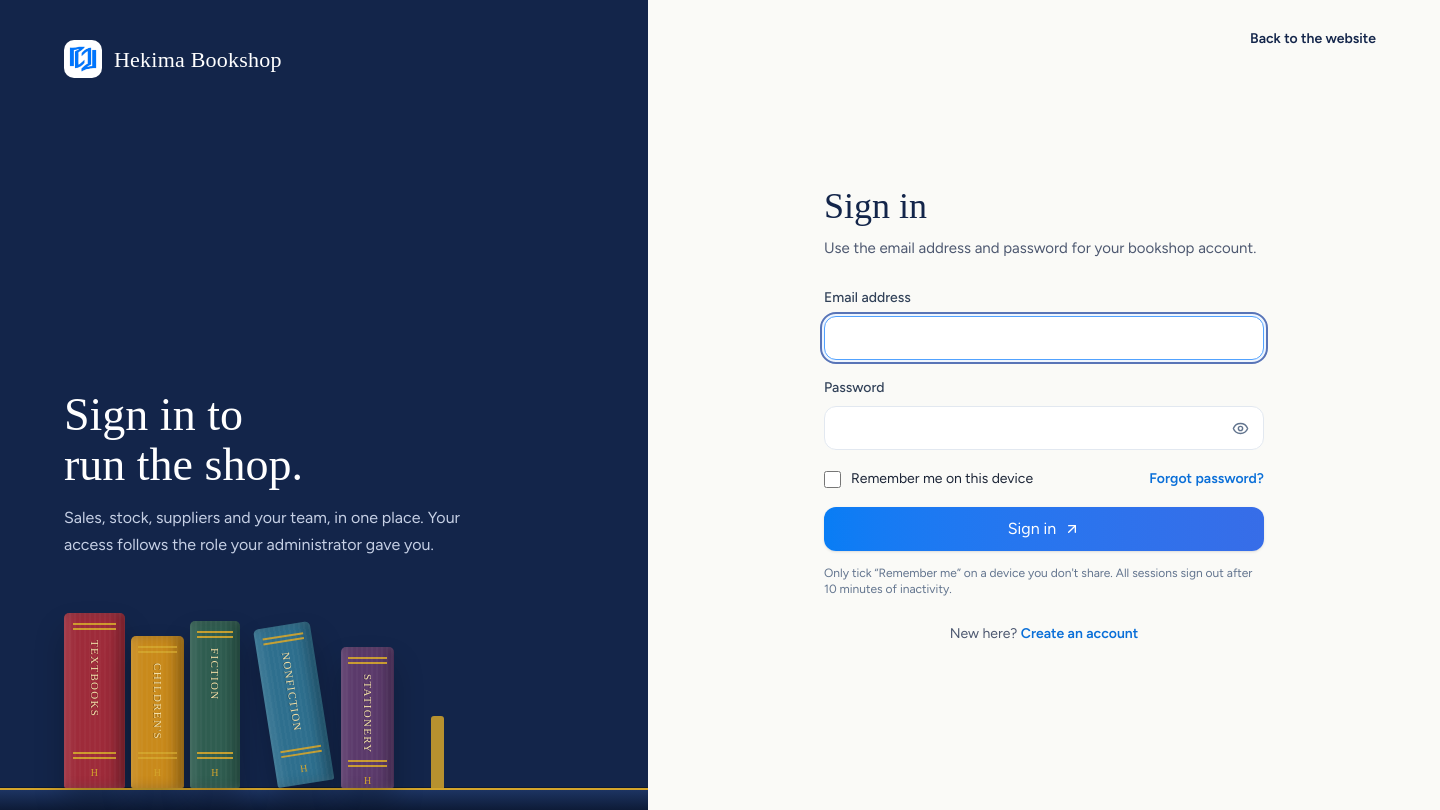
Test case: authentication forms › shows backend login errors and allows another attempt
The image size is (1440, 810).
In the field labelled "Email address": (1044, 338) [824,316,1264,360], type "reader@example.com"
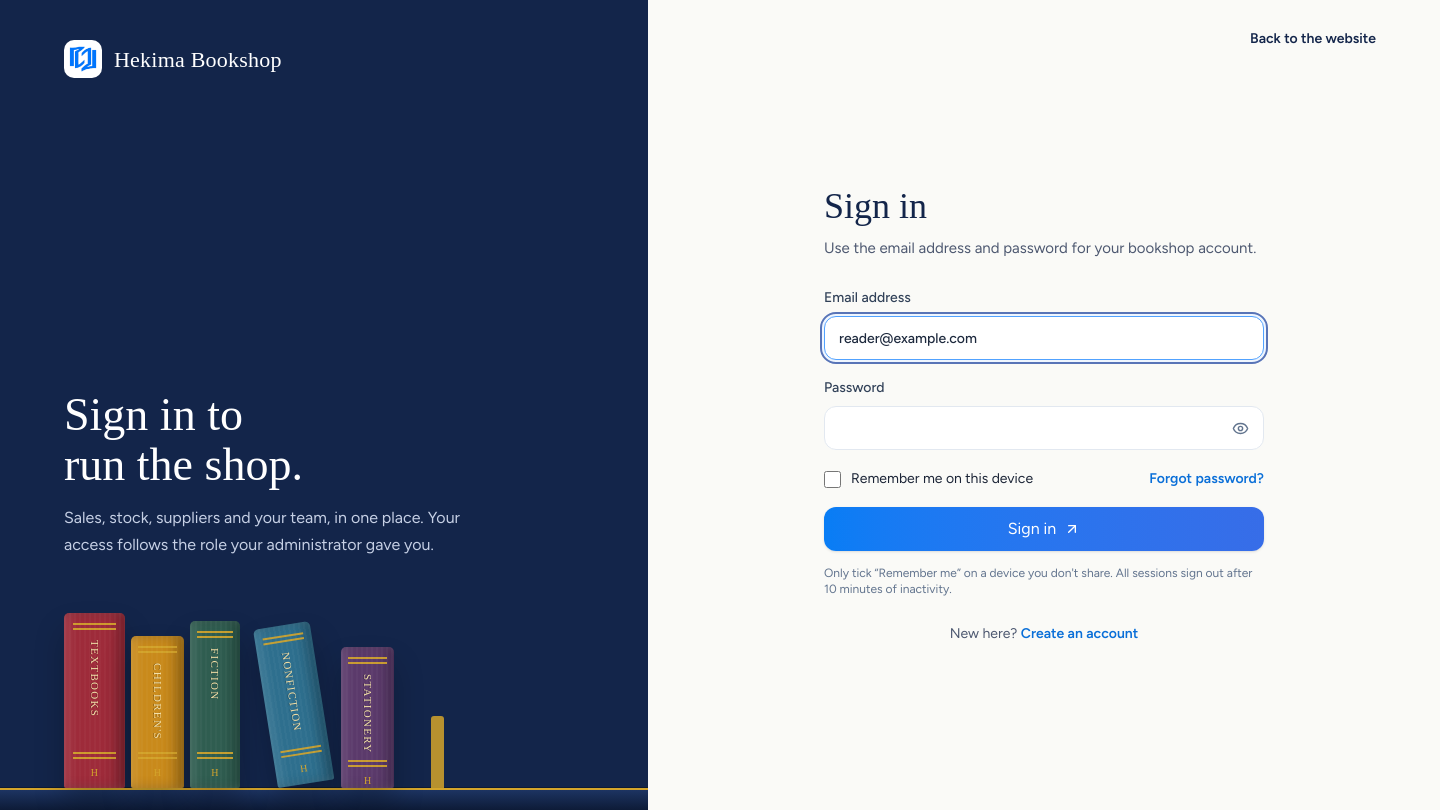
In the password field with id "login-password": (1044, 428) [824,406,1264,450], type "wrong"
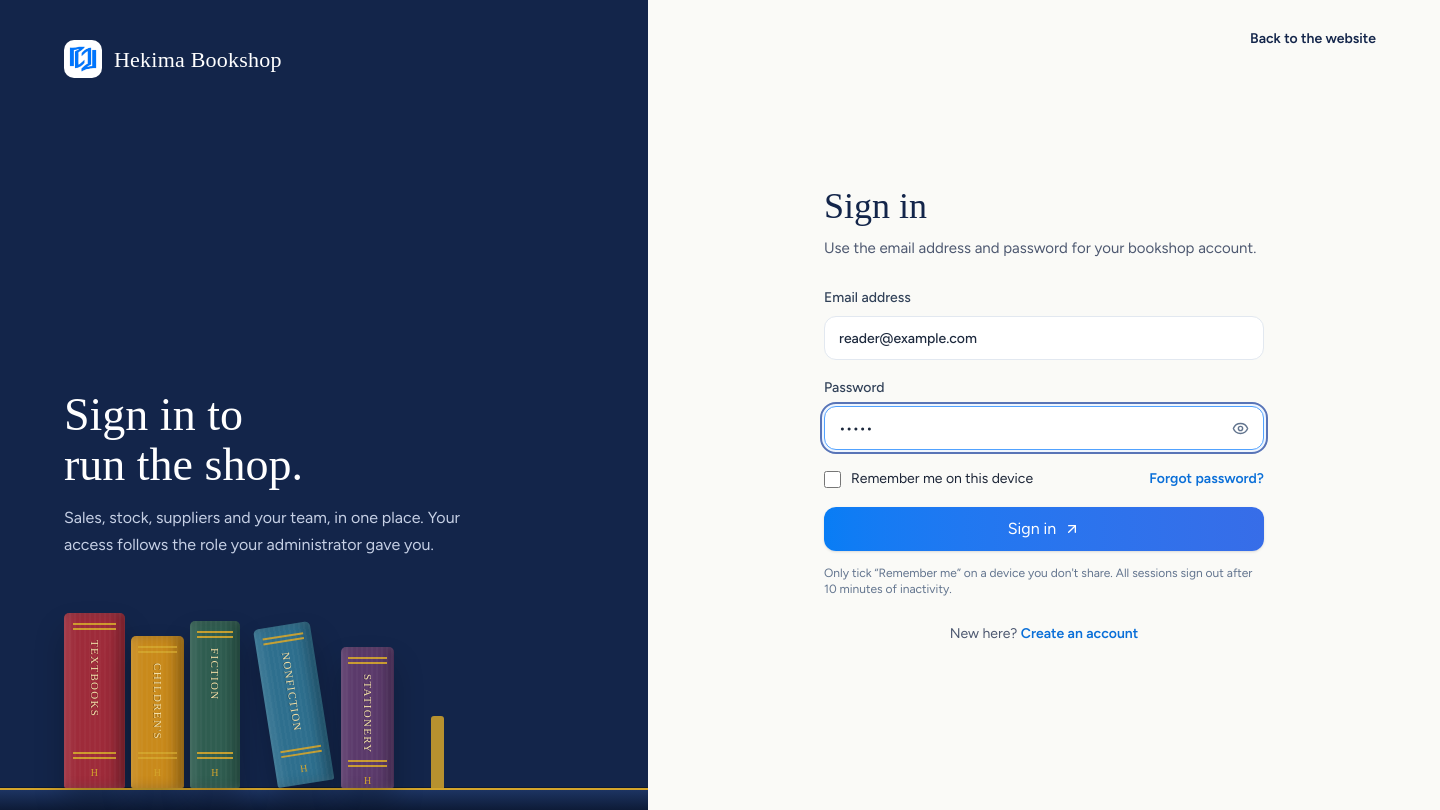
Click the button "Sign in": click(1044, 529) [824,507,1264,551]
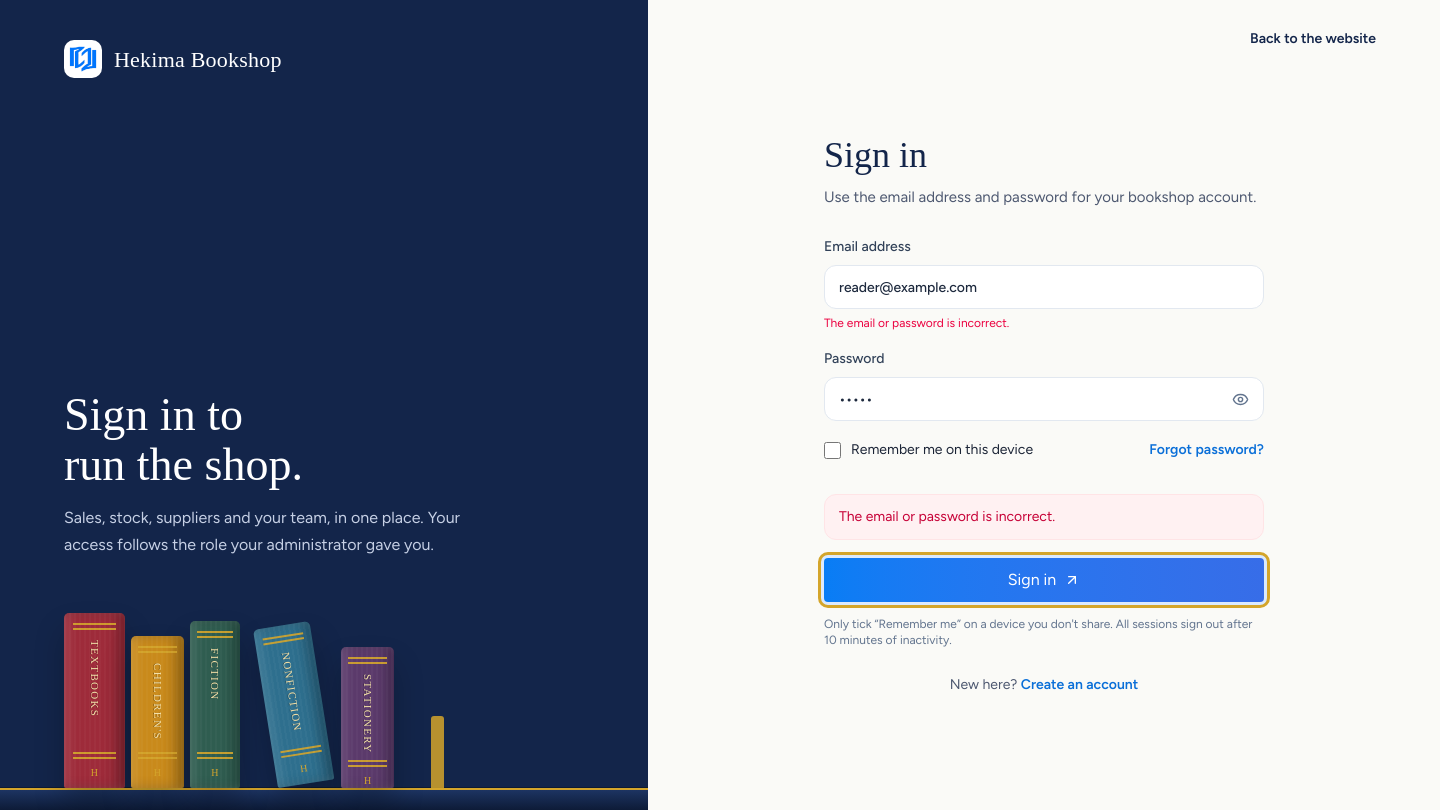
Expected: the button "Sign in" is enabled, [824,558,1264,602]
Now the text "The email or password is incorrect." is shown, box [824,316,1009,330]
